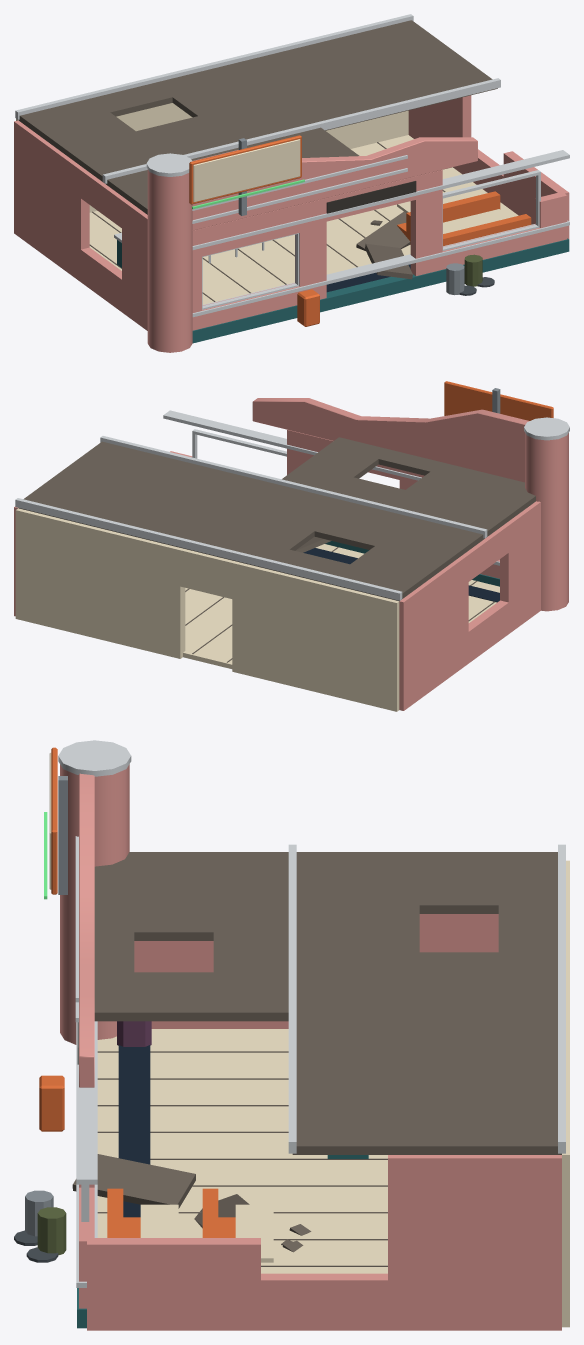
File: Bldg_Diner.fbx
The picture shows the model from 3 angles, top to bottom: view 1: azimuth 30°, elevation 25°; view 2: azimuth 150°, elevation 25°; view 3: azimuth 270°, elevation 25°; orthographic projection. The views are drawn at different scales.
Visible parts, largest first — view 1: Roof, Decor, Floor, Wall12, Corner, FalseFront, Sign1, Wall9, Wall6, Wall3, Wall4, Booth (+15 smaller); view 2: Roof, Wall18, Wall16, Decor, FalseFront, Wall12, Corner, Floor, Wall9, Wall17, Wall10, Wall11 (+2 smaller); view 3: Roof, Floor, Wall15, Decor, Wall13, Wall14, Corner, FalseFront, Wall9, Wall12, Wall18, Booth (+5 smaller).
Boxes of the visible parts, box(x1,y1,x2,y2) form: Roof: box(18, 20, 497, 214); Decor: box(15, 14, 569, 343); Floor: box(89, 135, 518, 304); Wall12: box(14, 120, 89, 281); Corner: box(147, 169, 192, 352); FalseFront: box(192, 137, 477, 230); Sign1: box(193, 139, 300, 202); Wall9: box(122, 199, 147, 330); Wall6: box(410, 170, 442, 275); Wall3: box(202, 204, 299, 256); Wall4: box(295, 198, 326, 299); Booth: box(406, 191, 531, 246); Roof: box(18, 437, 535, 601); Wall18: box(15, 508, 185, 658); Wall16: box(232, 561, 399, 711); Decor: box(15, 381, 569, 662); FalseFront: box(252, 398, 529, 482); Wall12: box(399, 553, 468, 710); Corner: box(525, 433, 568, 611); Floor: box(183, 544, 499, 668); Wall9: box(500, 501, 540, 633); Wall17: box(180, 548, 234, 598); Wall10: box(468, 600, 508, 663); Wall11: box(465, 524, 508, 581); Roof: box(94, 852, 561, 1154); Floor: box(97, 1029, 387, 1273); Wall15: box(388, 1155, 561, 1330); Decor: box(14, 740, 565, 1328); Wall13: box(87, 1238, 260, 1330); Wall14: box(261, 1273, 387, 1330); Corner: box(60, 764, 129, 1044); FalseFront: box(79, 773, 94, 1087); Wall9: box(134, 941, 229, 1028); Wall12: box(419, 914, 498, 952); Wall18: box(562, 1028, 569, 1327); Booth: box(107, 1188, 218, 1237).
Bounding box in the file's own units: 46.8 × 21.53 × 35.1.
